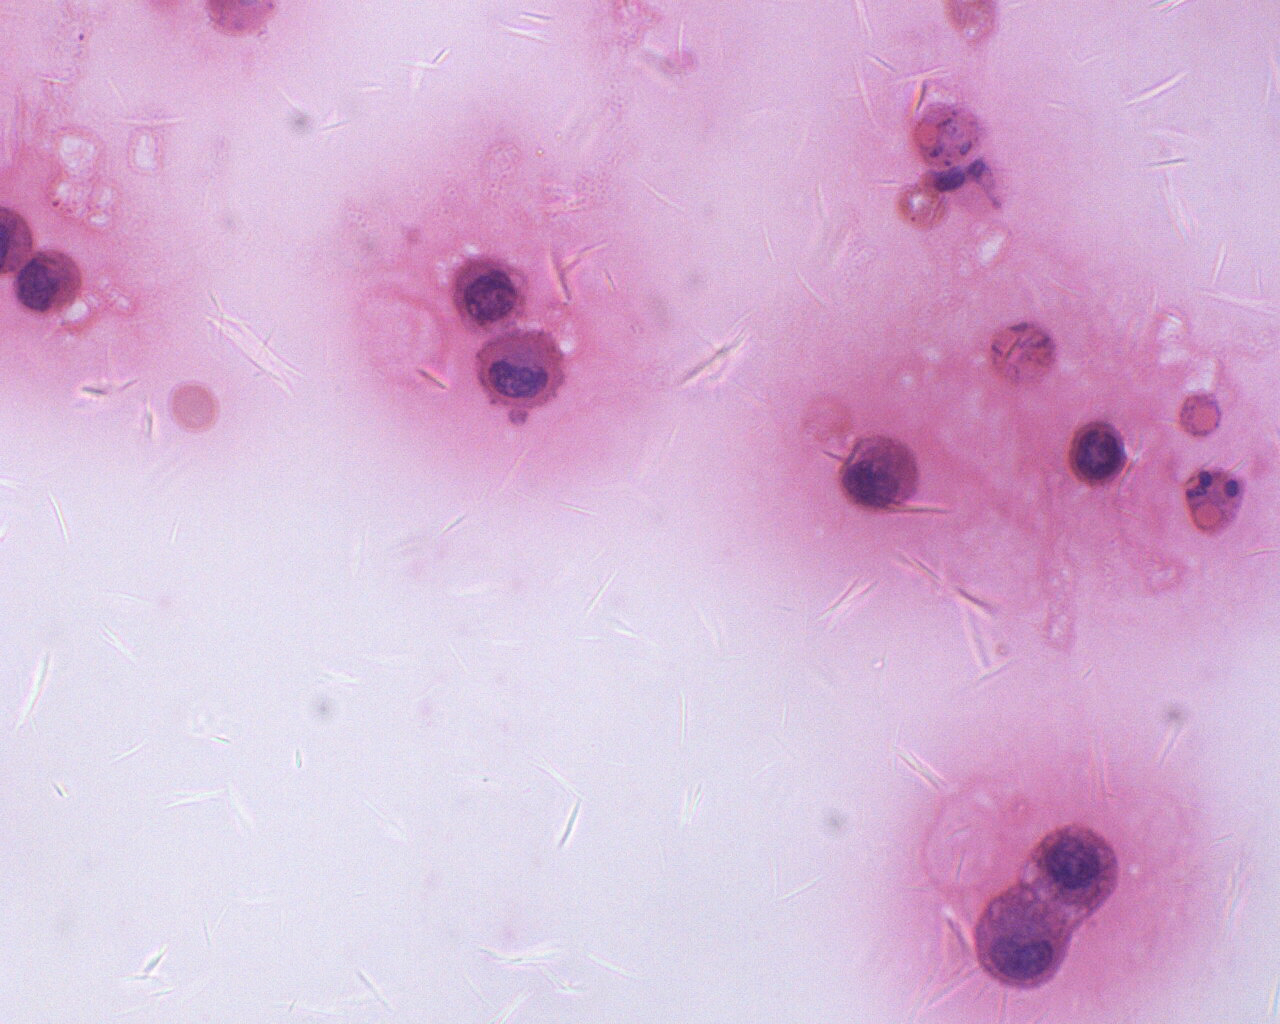ab: (474, 325, 573, 412), (441, 252, 521, 338), (11, 249, 90, 320), (1065, 418, 1128, 492)
meso: (972, 881, 1070, 997), (1030, 822, 1119, 920), (837, 432, 924, 515)
